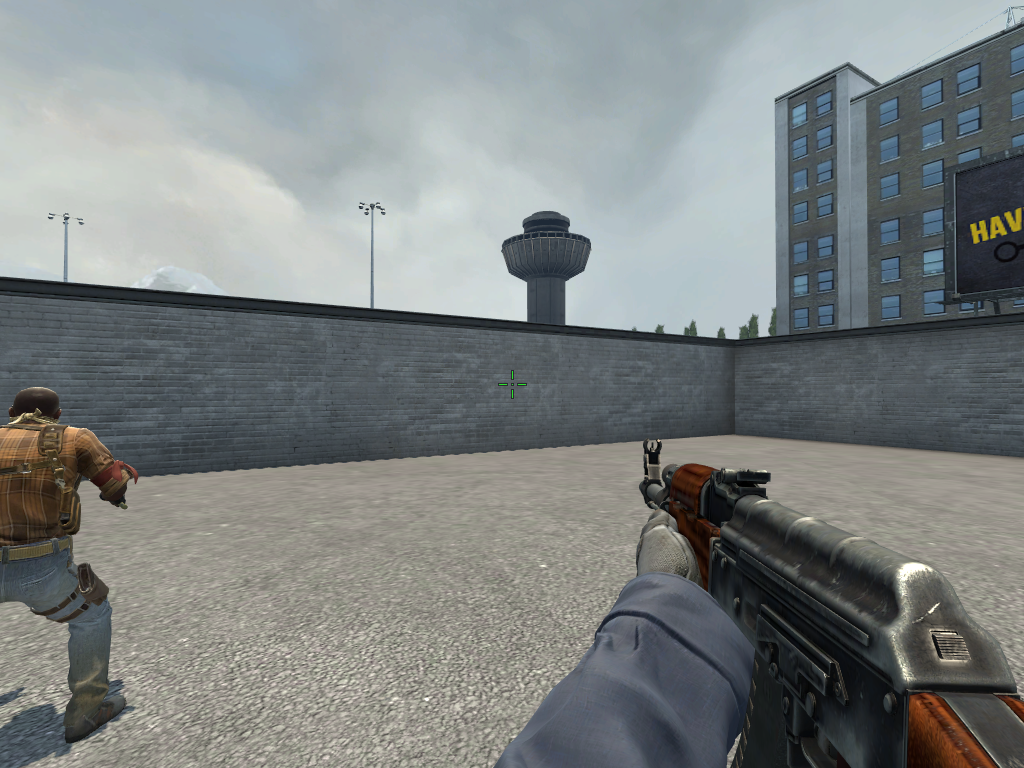tr head: (8, 384, 68, 426)
